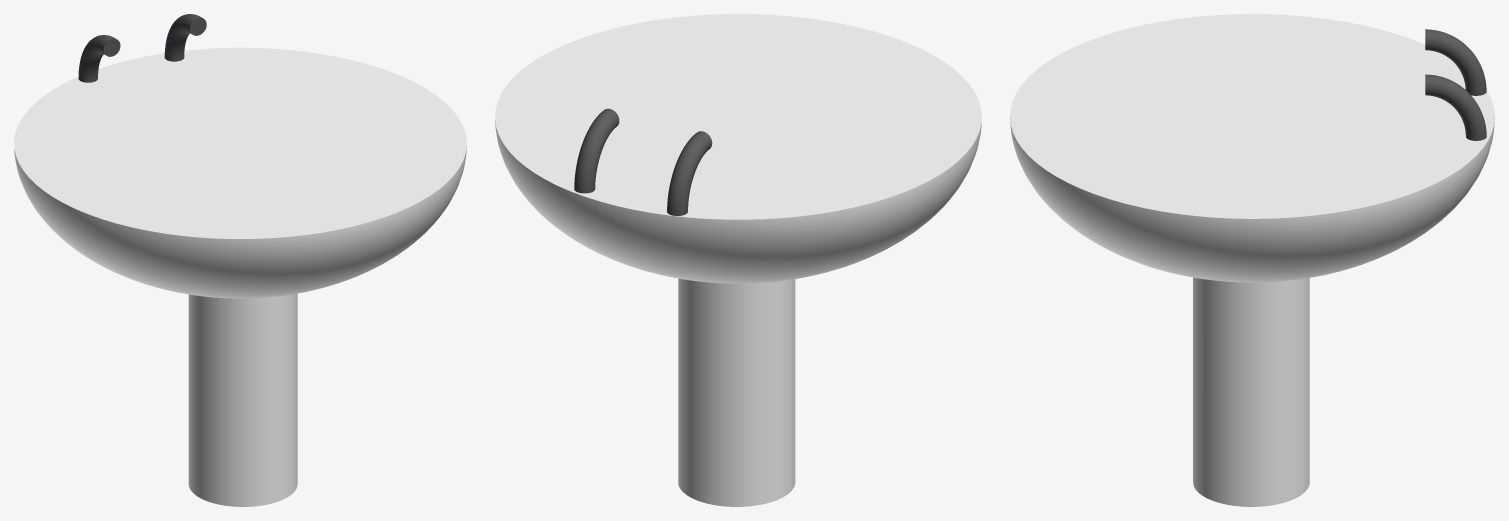
File: Sink.fbx
The picture shows the model from 3 angles, left to right: view 1: azimuth 30°, elevation 25°; view 2: azimuth 150°, elevation 25°; view 3: azimuth 270°, elevation 25°; orthographic projection. The views are drawn at different scales.
Visible parts, largest first — view 1: root (×4); view 2: root (×4); view 3: root (×4).
Part boxes in pixels (x1,y1,x2,y2): root (×4): (14, 14, 466, 506); root (×4): (495, 14, 981, 506); root (×4): (1010, 14, 1494, 506).
Size of the model in its own units: 0.8308 by 0.805 by 0.8308.
Materials: 3 (3 with a texture image).
